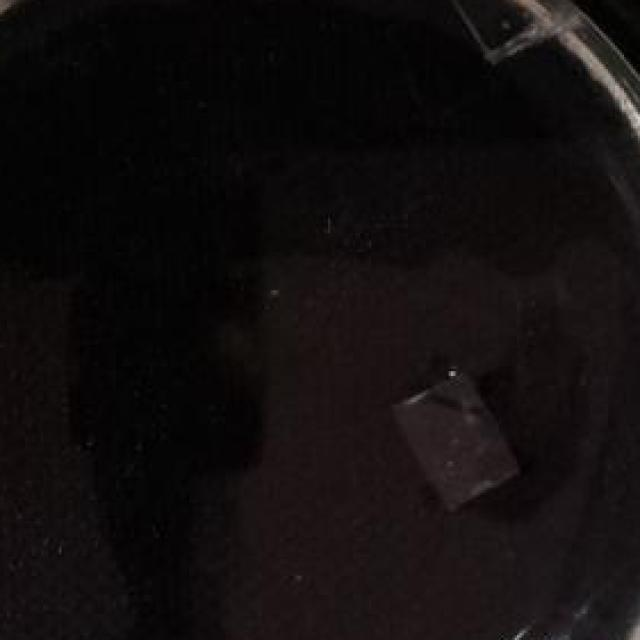Microplastic: (383, 364, 519, 523), (421, 0, 582, 71)
